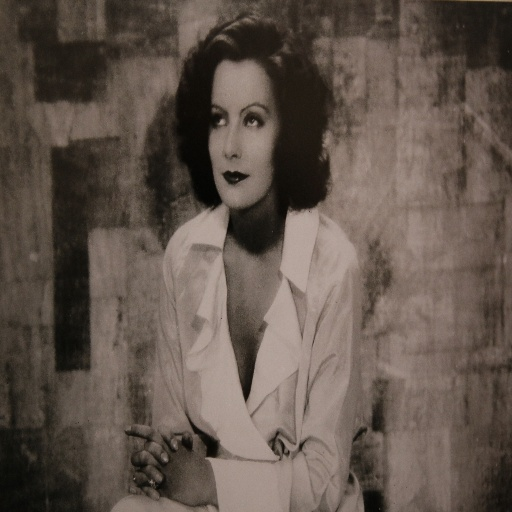hand: (123, 424, 213, 507), (137, 435, 193, 500)
